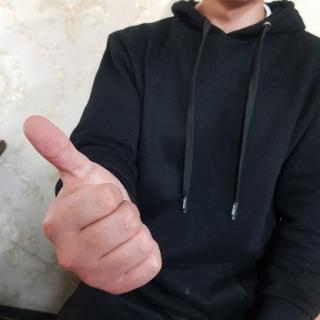ALIF: (19, 110, 168, 302)
